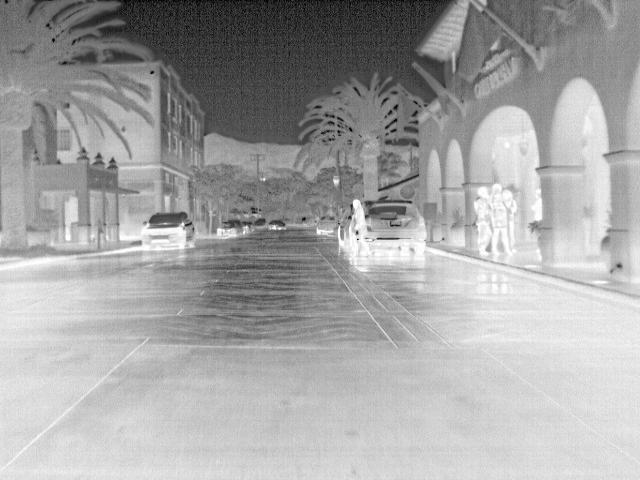car: (365, 200, 429, 258), (140, 210, 196, 252), (216, 218, 247, 237), (315, 213, 339, 234), (252, 216, 268, 230)
person: (485, 181, 515, 256), (351, 197, 373, 260), (473, 183, 491, 258), (499, 188, 519, 246), (529, 188, 543, 222)
